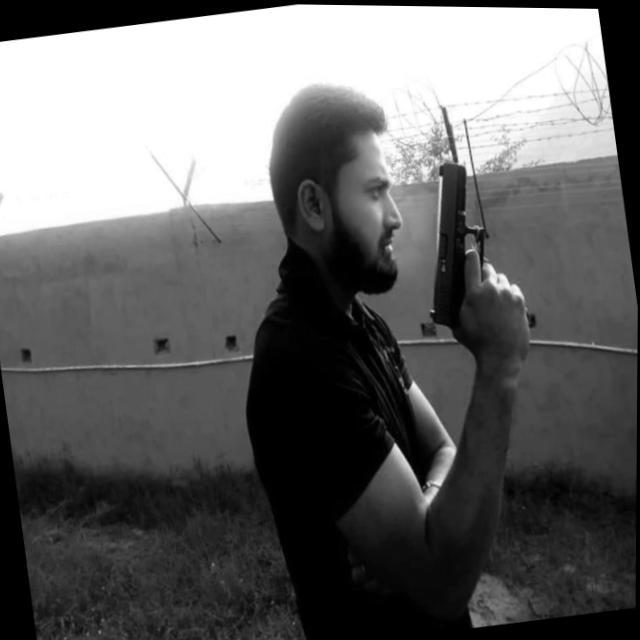weapon: (404, 148, 533, 347)
